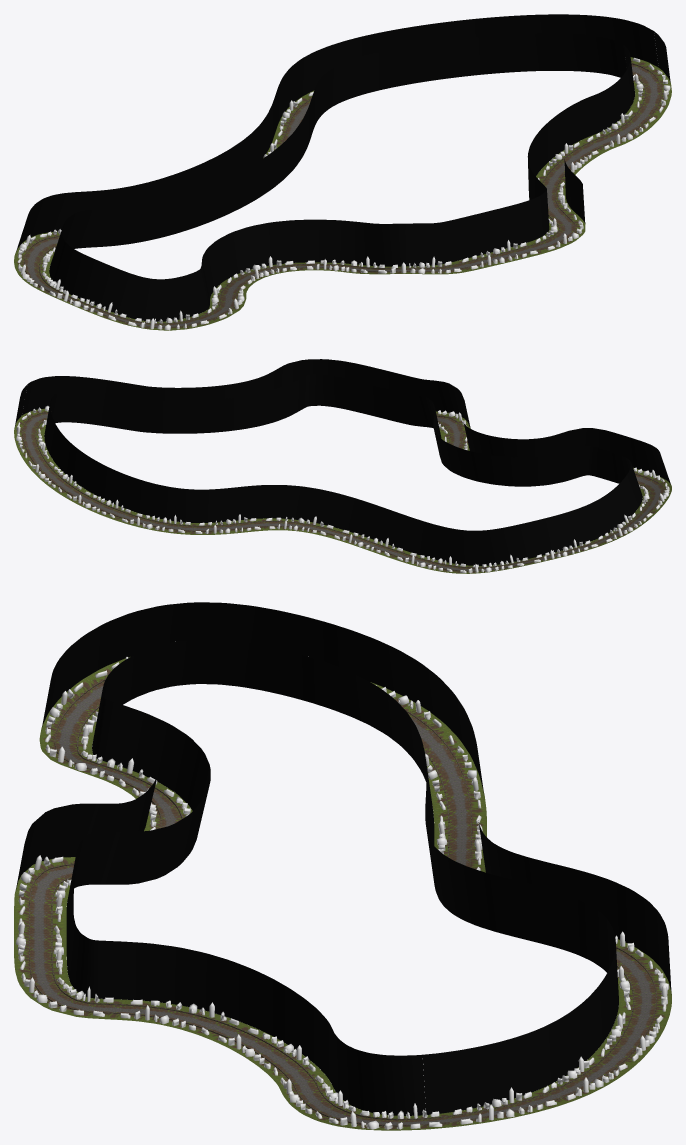
The model's file is Enviornment -2 Level.fbx.
3 renders of one model, top to bottom at view 1: azimuth 30°, elevation 25°; view 2: azimuth 150°, elevation 25°; view 3: azimuth 270°, elevation 25°, orthographic. The views are drawn at different scales.
Parts seen in each view (by area): view 1: Plane.019, Plane.009, House-6.006, House-6.005, Plane.018; view 2: Plane.019, Plane.009, House-6.006, House-6.005, Plane.018; view 3: Plane.019, Plane.009, House-6.006, House-6.005, Plane.018.
Boxes of the visible parts, x1,y1,x2,y2 form: Plane.019: [16, 14, 670, 321]; Plane.009: [14, 57, 671, 330]; House-6.006: [17, 57, 670, 330]; House-6.005: [42, 74, 643, 323]; Plane.018: [24, 63, 661, 327]; Plane.019: [14, 359, 670, 565]; Plane.009: [14, 408, 671, 573]; House-6.006: [16, 405, 669, 573]; House-6.005: [38, 416, 649, 567]; Plane.018: [22, 412, 663, 571]; Plane.019: [15, 602, 671, 1115]; Plane.009: [14, 657, 671, 1130]; House-6.006: [16, 641, 669, 1129]; House-6.005: [53, 711, 630, 1118]; Plane.018: [29, 678, 656, 1126].
Bounding box in the file's own units: 172428 × 21322 × 99033.
Materials: 4 (2 with a texture image).
